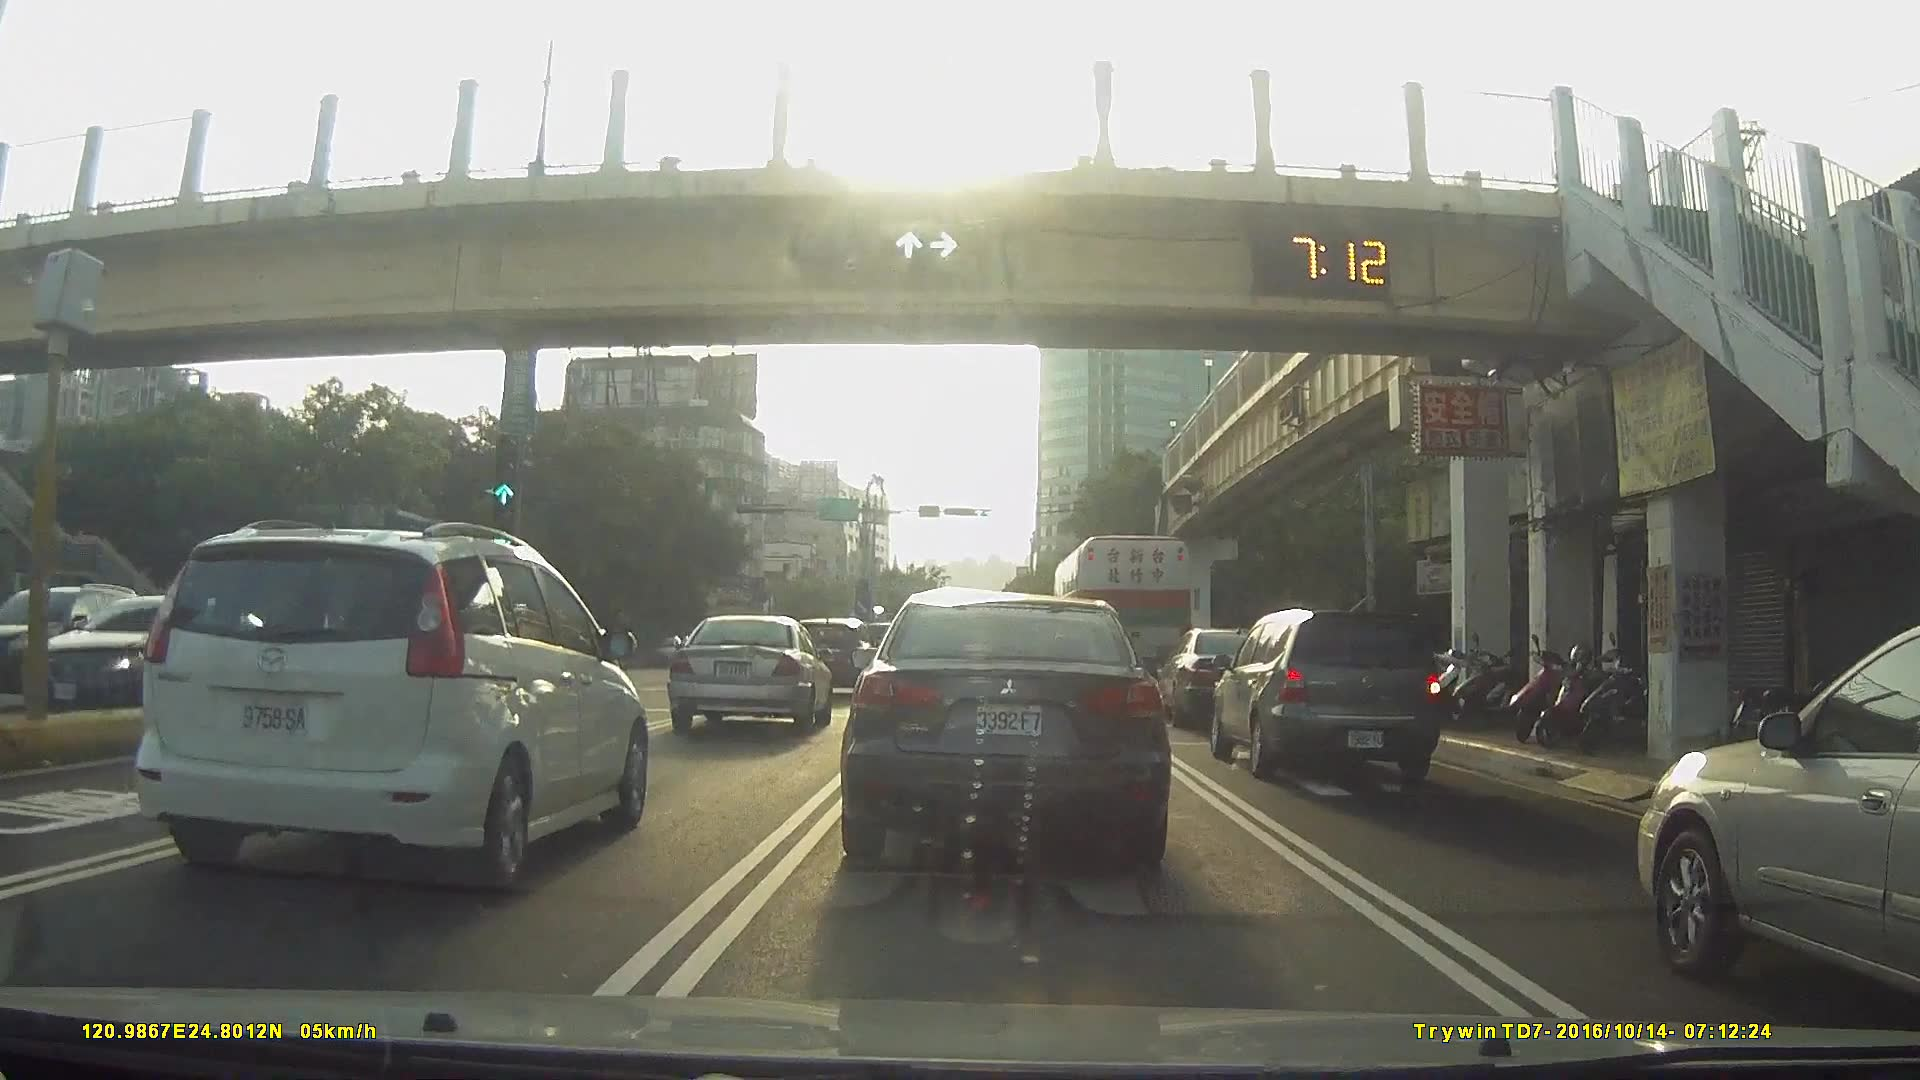vehicle: (125, 517, 651, 890), (1635, 624, 1920, 1004), (843, 585, 1168, 880), (1207, 605, 1441, 789), (36, 592, 281, 723), (1054, 535, 1205, 694), (667, 613, 831, 733), (1156, 625, 1282, 728), (793, 615, 876, 692), (636, 632, 688, 670)
